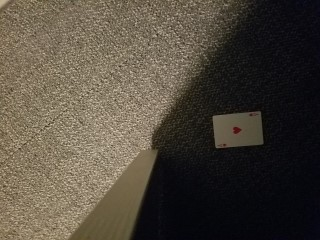AceOfHearts: (212, 110, 265, 150)
